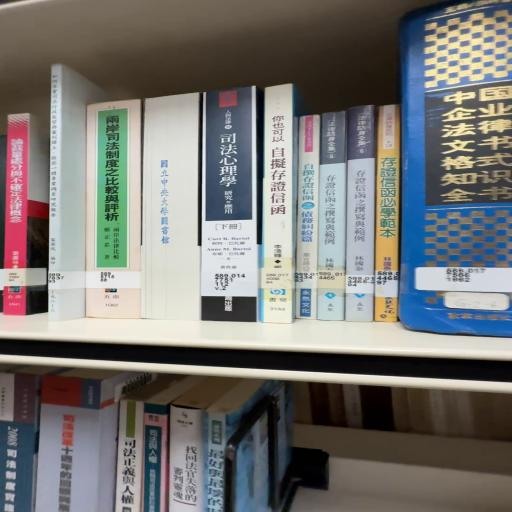backward: (140, 96, 202, 323)
book: (202, 89, 263, 331), (46, 65, 100, 269), (87, 97, 142, 268), (259, 89, 295, 332), (168, 402, 210, 511)
